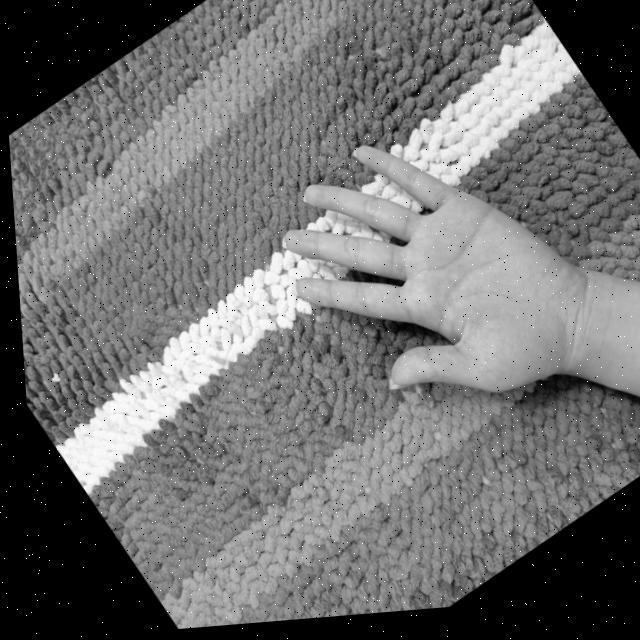no-gloves: (228, 56, 640, 506)
